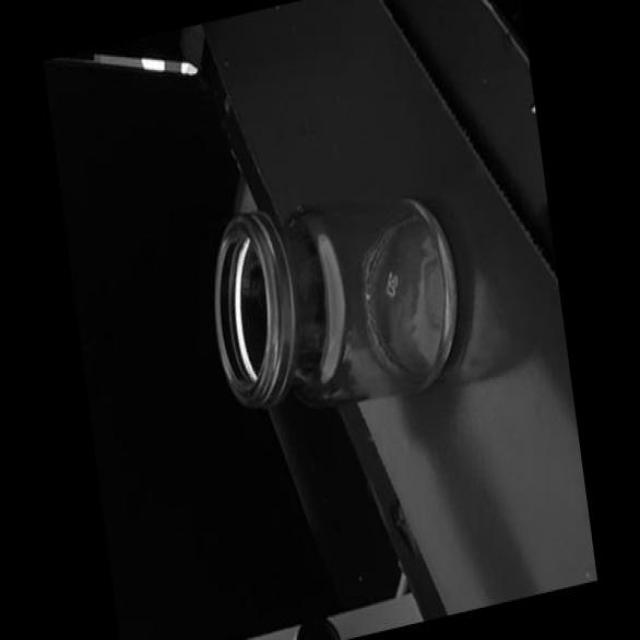glass: (196, 158, 473, 434)
